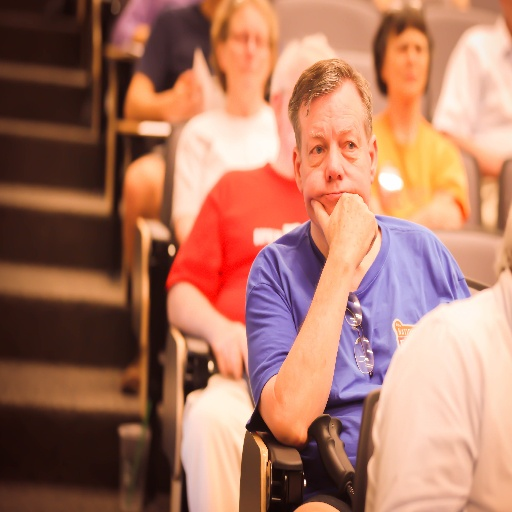hand: (308, 191, 379, 269), (213, 318, 249, 378), (167, 68, 204, 125)
